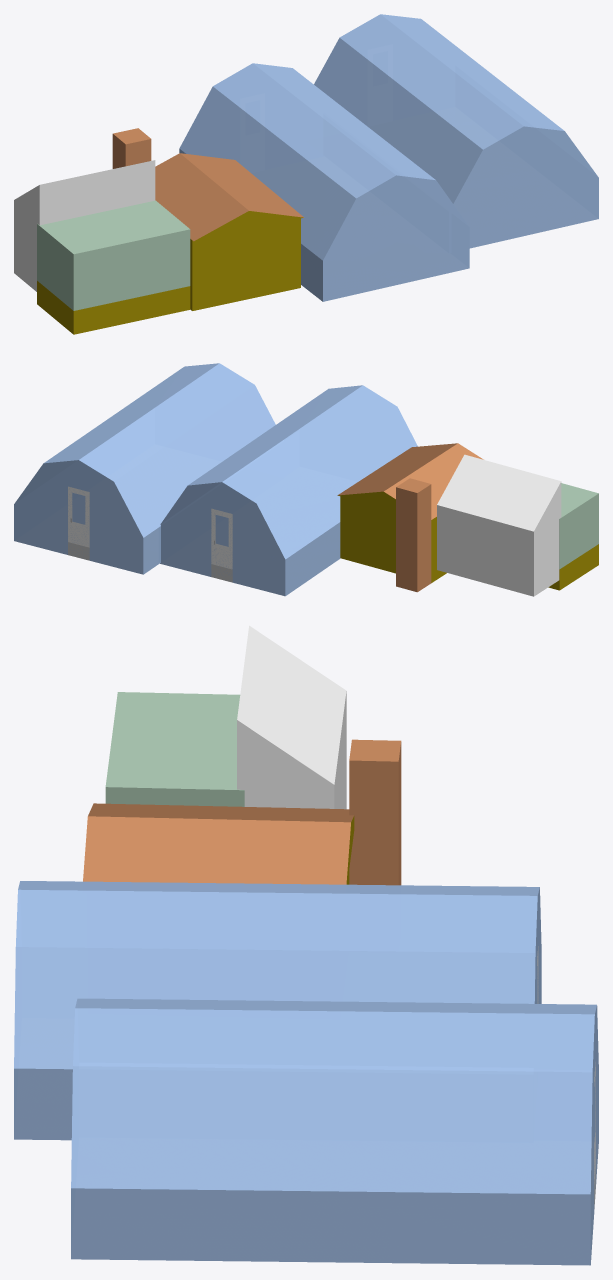
The model's file is Greenhouse_.gltf.
The picture shows the model from 3 angles, top to bottom: view 1: azimuth 30°, elevation 25°; view 2: azimuth 150°, elevation 25°; view 3: azimuth 270°, elevation 25°; orthographic projection. The views are drawn at different scales.
Parts seen in each view (by area): view 1: Mesh17 Greenhouse2 GH1 Model, Mesh13 Greenhouse1 GH1 Model, Mesh3 Group3 Group1 GH1 Model, Mesh11 Group7 Group1 GH1 Model, Mesh7 Group5 Group1 GH1 Model, Mesh5 Group4 Group1 GH1 Model, Mesh1 Group2 Group1 GH1 Model, Mesh9 Group6 Group1 GH1 Model; view 2: Mesh17 Greenhouse2 GH1 Model, Mesh13 Greenhouse1 GH1 Model, Mesh5 Group4 Group1 GH1 Model, Mesh11 Group7 Group1 GH1 Model, Mesh7 Group5 Group1 GH1 Model, Mesh9 Group6 Group1 GH1 Model, Mesh3 Group3 Group1 GH1 Model, Mesh1 Group2 Group1 GH1 Model; view 3: Mesh13 Greenhouse1 GH1 Model, Mesh17 Greenhouse2 GH1 Model, Mesh11 Group7 Group1 GH1 Model, Mesh5 Group4 Group1 GH1 Model, Mesh3 Group3 Group1 GH1 Model, Mesh9 Group6 Group1 GH1 Model.
Boxes of the visible parts, x1,y1,x2,y2 form: Mesh17 Greenhouse2 GH1 Model: (179,63,469,301); Mesh13 Greenhouse1 GH1 Model: (314,14,598,248); Mesh3 Group3 Group1 GH1 Model: (37,200,190,310); Mesh11 Group7 Group1 GH1 Model: (155,153,303,241); Mesh7 Group5 Group1 GH1 Model: (190,218,300,310); Mesh5 Group4 Group1 GH1 Model: (14,160,155,291); Mesh1 Group2 Group1 GH1 Model: (37,281,190,334); Mesh9 Group6 Group1 GH1 Model: (112,128,151,168); Mesh17 Greenhouse2 GH1 Model: (160,385,417,596); Mesh13 Greenhouse1 GH1 Model: (14,363,275,574); Mesh5 Group4 Group1 GH1 Model: (437,454,561,596); Mesh11 Group7 Group1 GH1 Model: (337,443,483,519); Mesh7 Group5 Group1 GH1 Model: (340,496,446,582); Mesh9 Group6 Group1 GH1 Model: (396,478,431,592); Mesh3 Group3 Group1 GH1 Model: (559,483,598,569); Mesh1 Group2 Group1 GH1 Model: (548,544,598,590); Mesh13 Greenhouse1 GH1 Model: (71,998,598,1265); Mesh17 Greenhouse2 GH1 Model: (14,881,541,1140); Mesh11 Group7 Group1 GH1 Model: (83,803,354,884); Mesh5 Group4 Group1 GH1 Model: (237,625,346,809); Mesh3 Group3 Group1 GH1 Model: (105,692,244,806); Mesh9 Group6 Group1 GH1 Model: (349,739,401,885).
Size of the model in its own units: 3497 by 785 by 1982.
